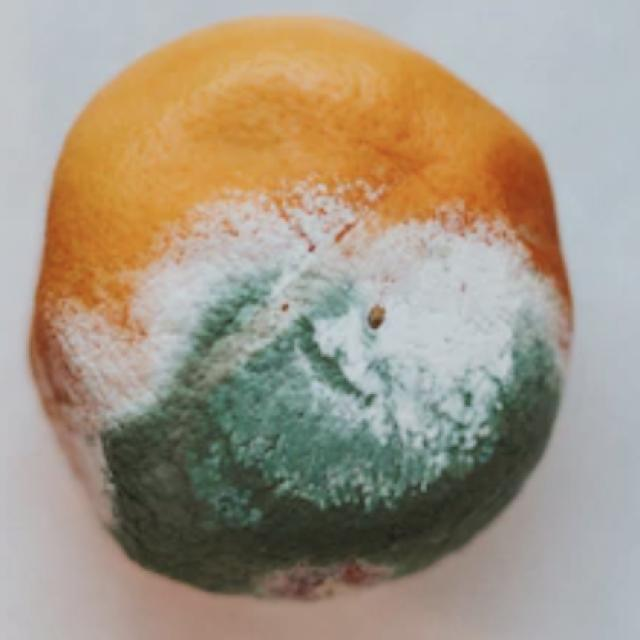sangat-busuk: (31, 18, 572, 599), (53, 225, 561, 600)
